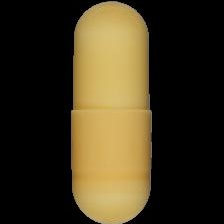0615-7962: (0, 0, 224, 224)
